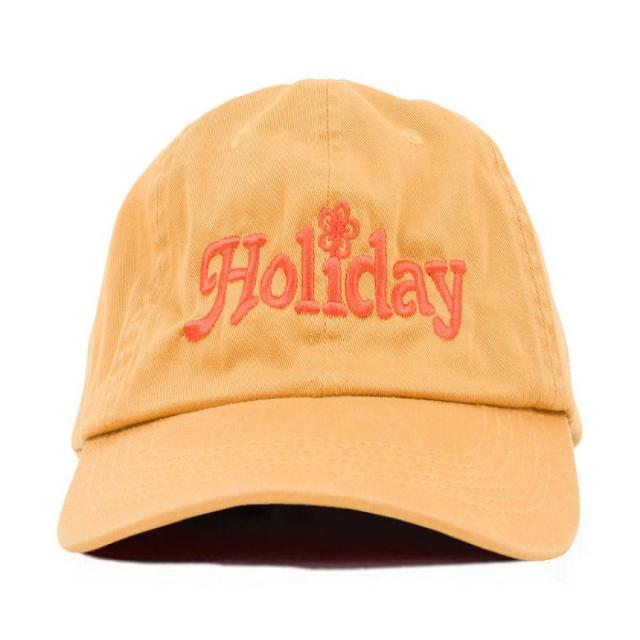Cap: (58, 72, 596, 567)
